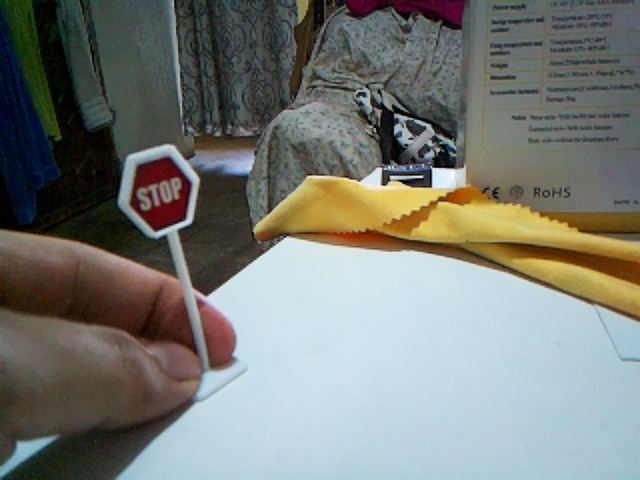stop_sign: (117, 144, 199, 238)
